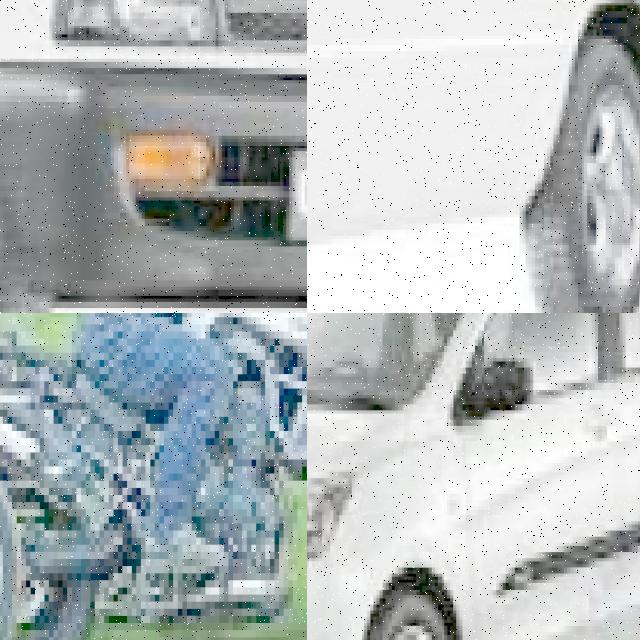bike: (0, 313, 307, 640), (0, 313, 16, 640)
car: (307, 313, 640, 640), (307, 0, 640, 313), (0, 0, 307, 313)
